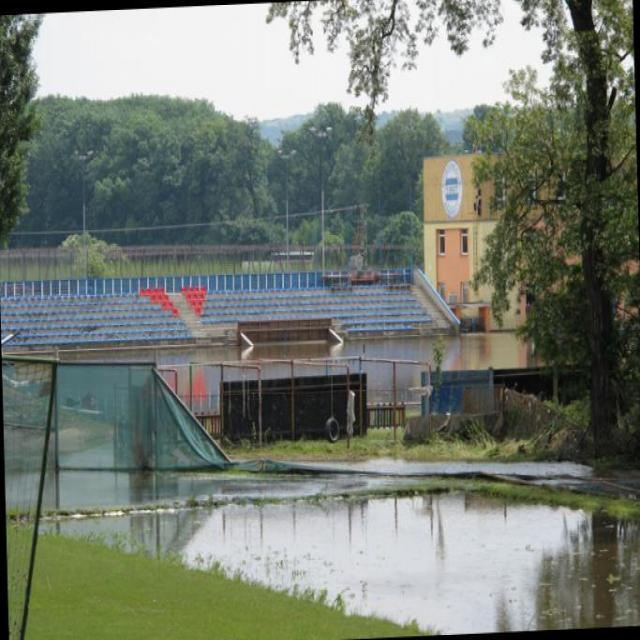flood: (8, 460, 639, 639)
